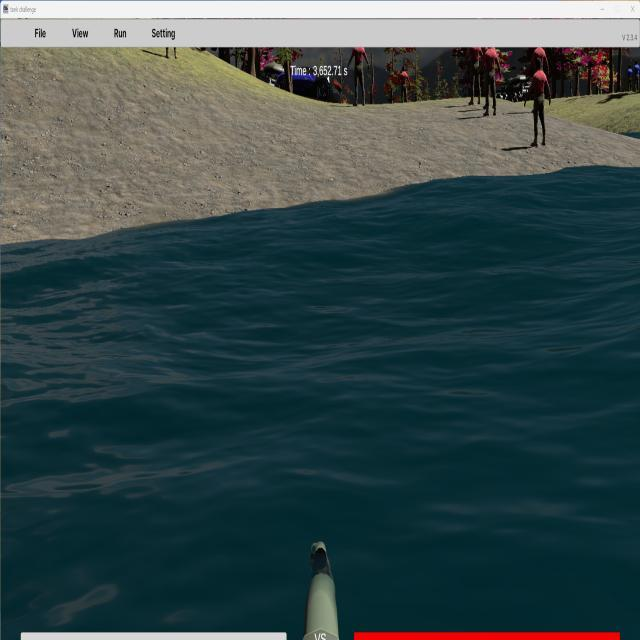Human: (525, 57, 551, 148), (478, 41, 502, 119), (346, 38, 370, 107), (397, 65, 411, 108)
